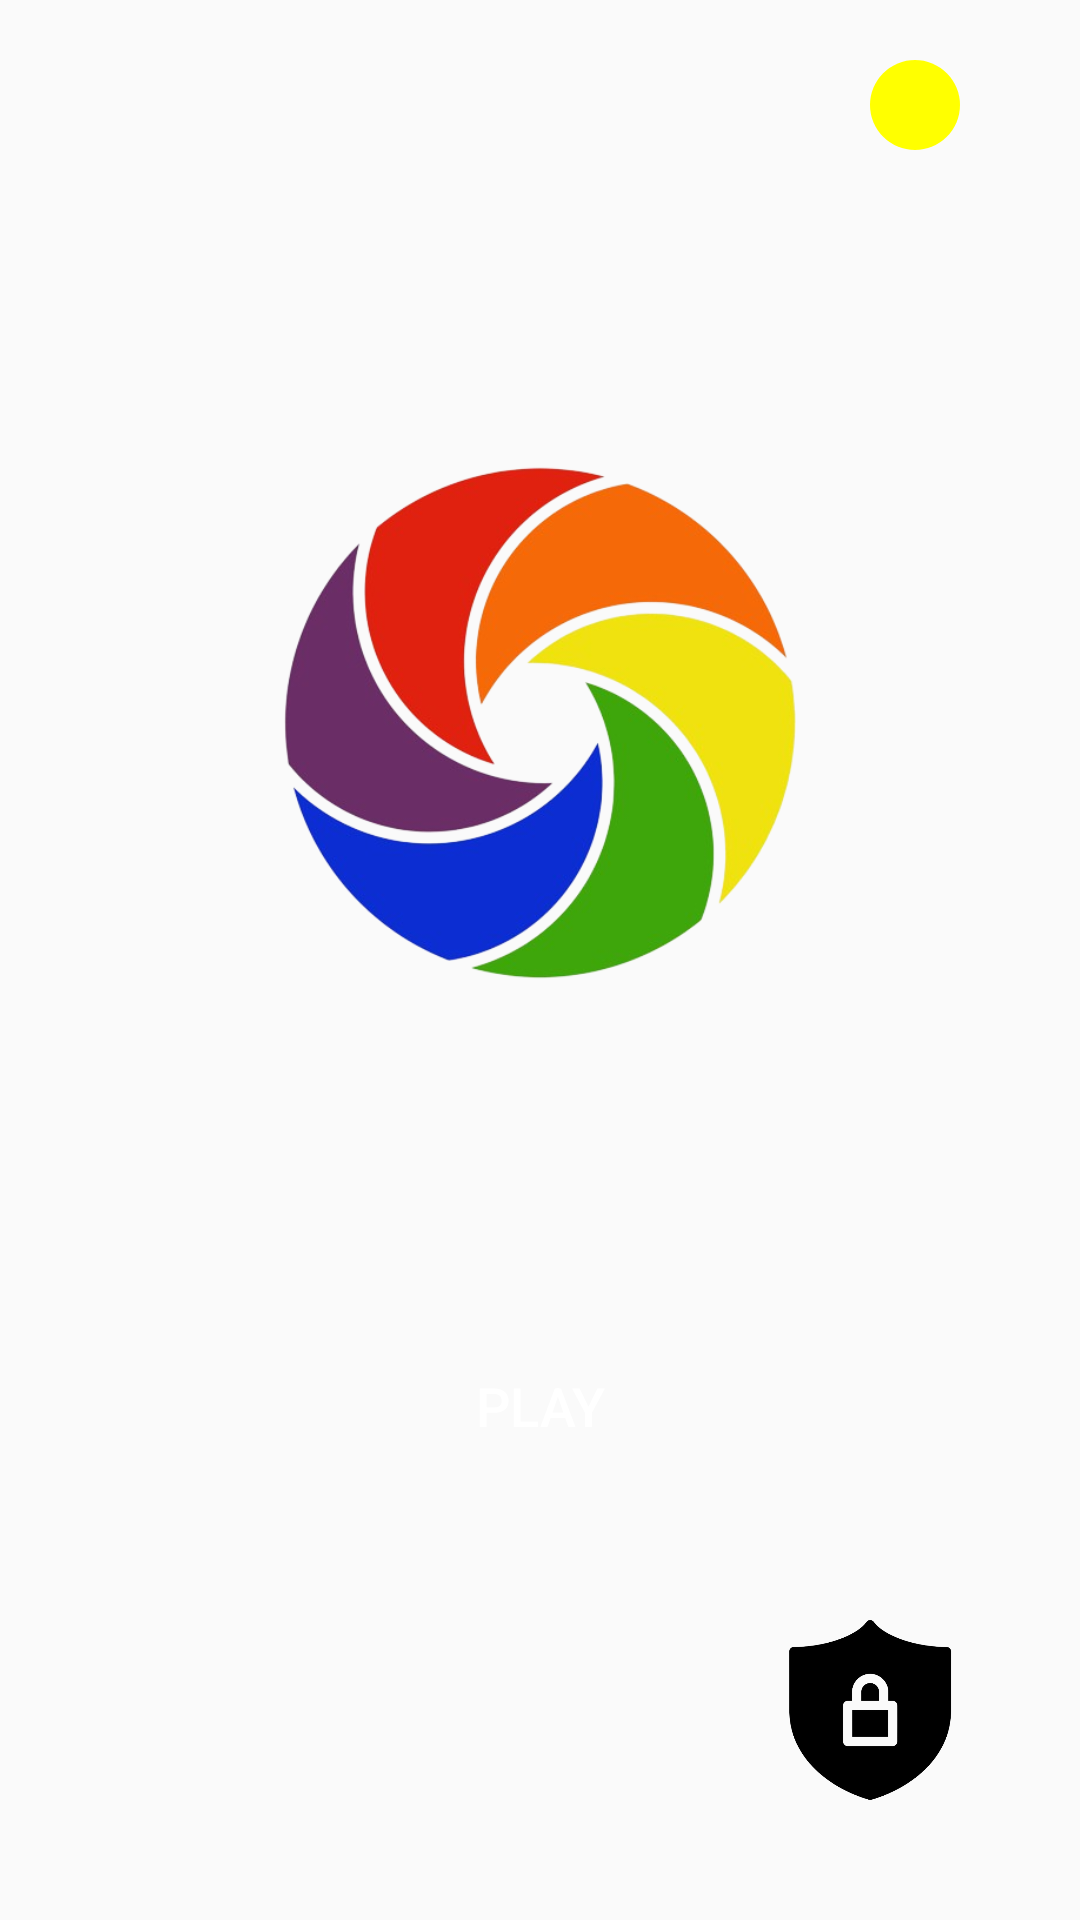

Named icons in this screenshot (1080 x 1920) and their bounding boxes, [x1=x1, y1=y1, x2=x2, y2=y2]:
safety: [x1=789, y1=1620, x2=951, y2=1800]
